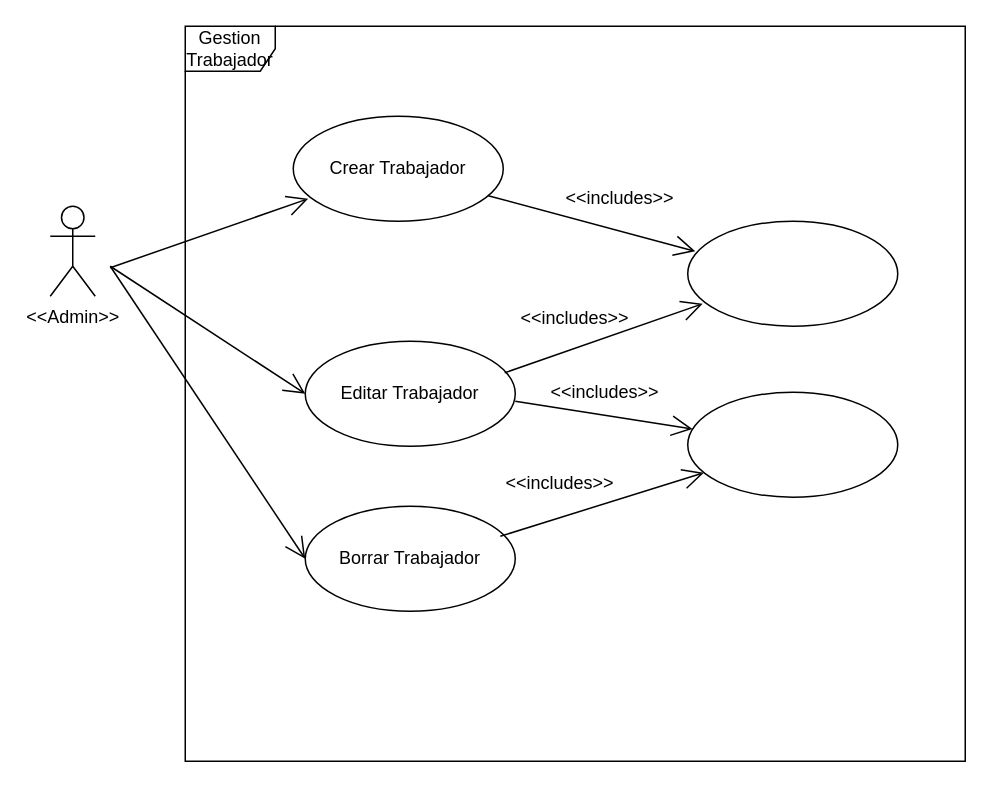
Some shapes in this 992 by 788 pixel diagram are drawn without their labels. Each missing label, with the box of its shape:
Buscar Trabajador: (686, 391, 898, 497)
Validar Trabajador: (686, 220, 898, 326)
